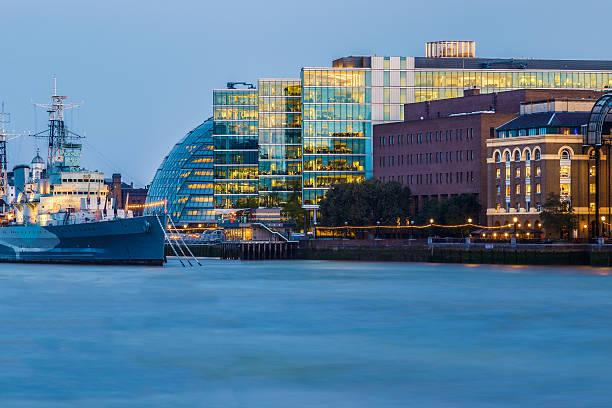MIL_Ship: (0, 94, 172, 265)
